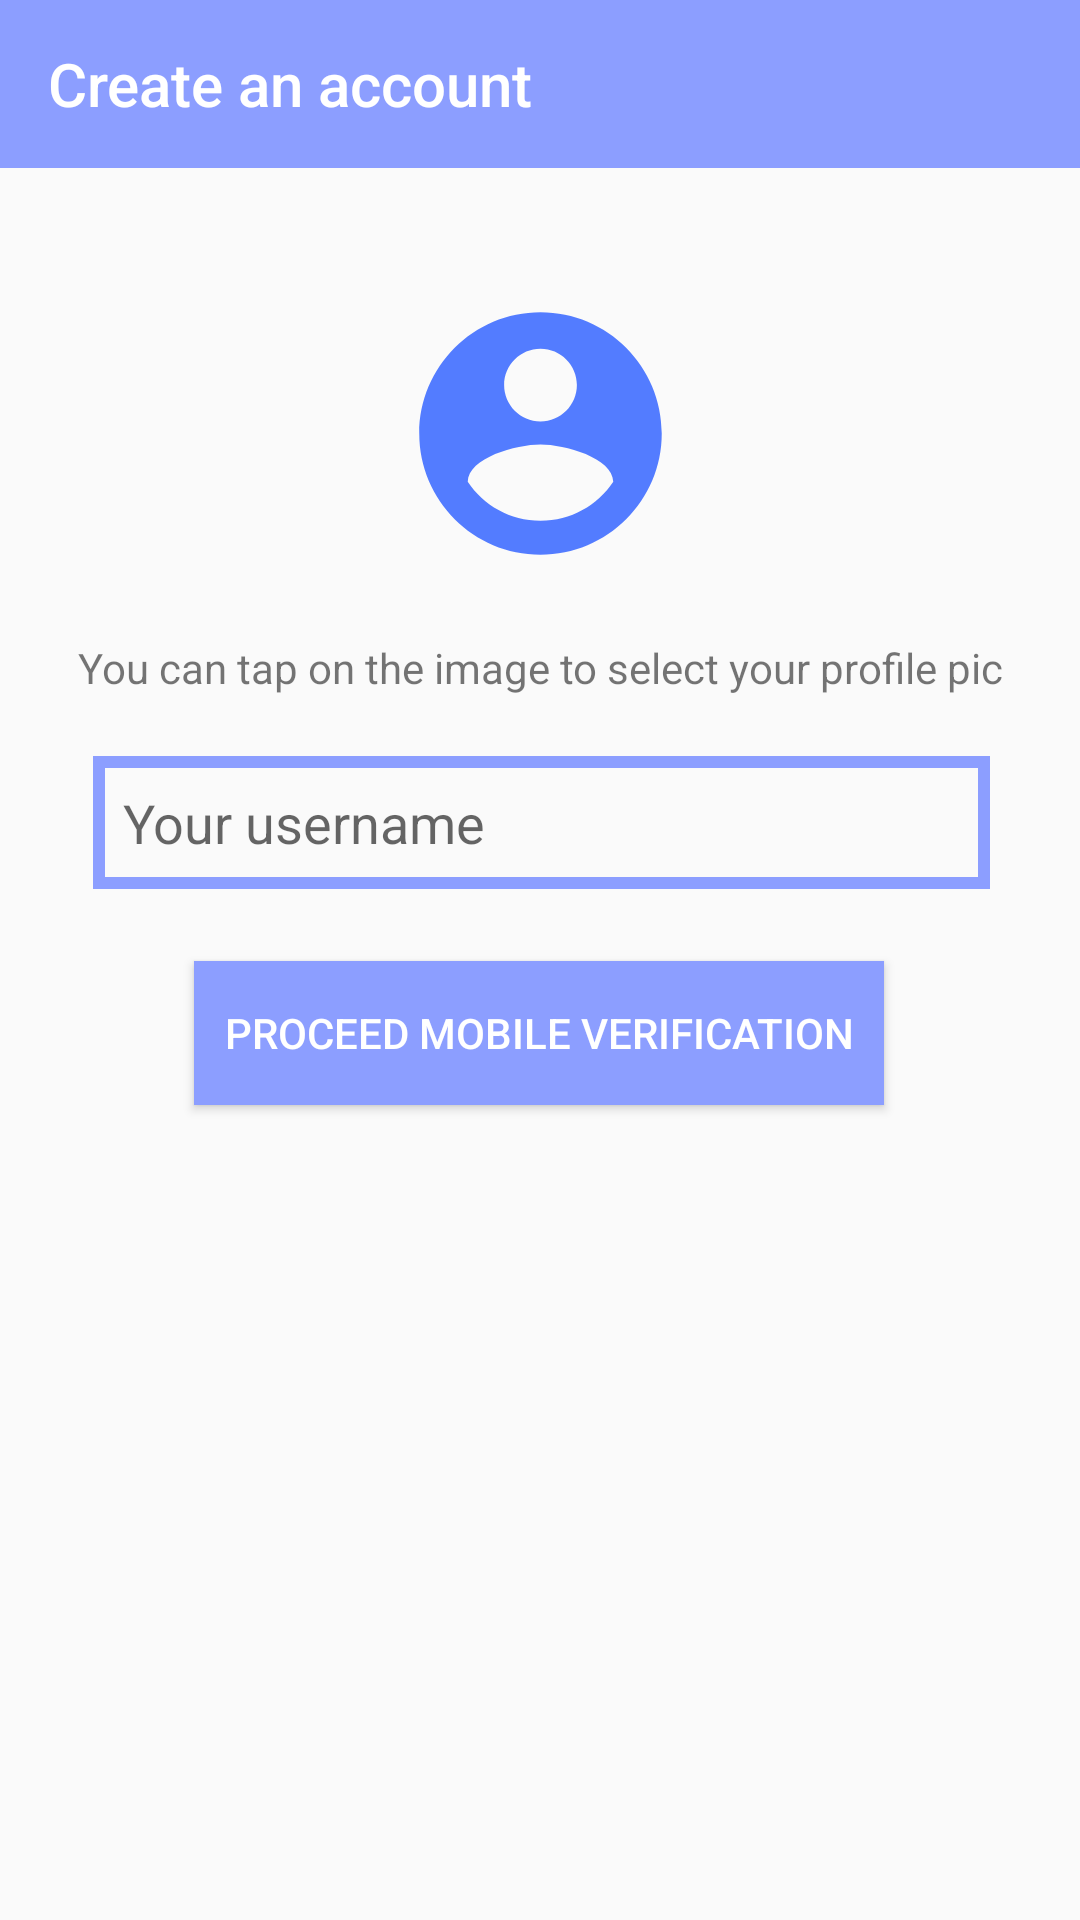

Screen size 1080*1920. Icon name, then its box in pixels as (x1, y1, x2, y2):
user photo: (419, 312, 662, 555)
